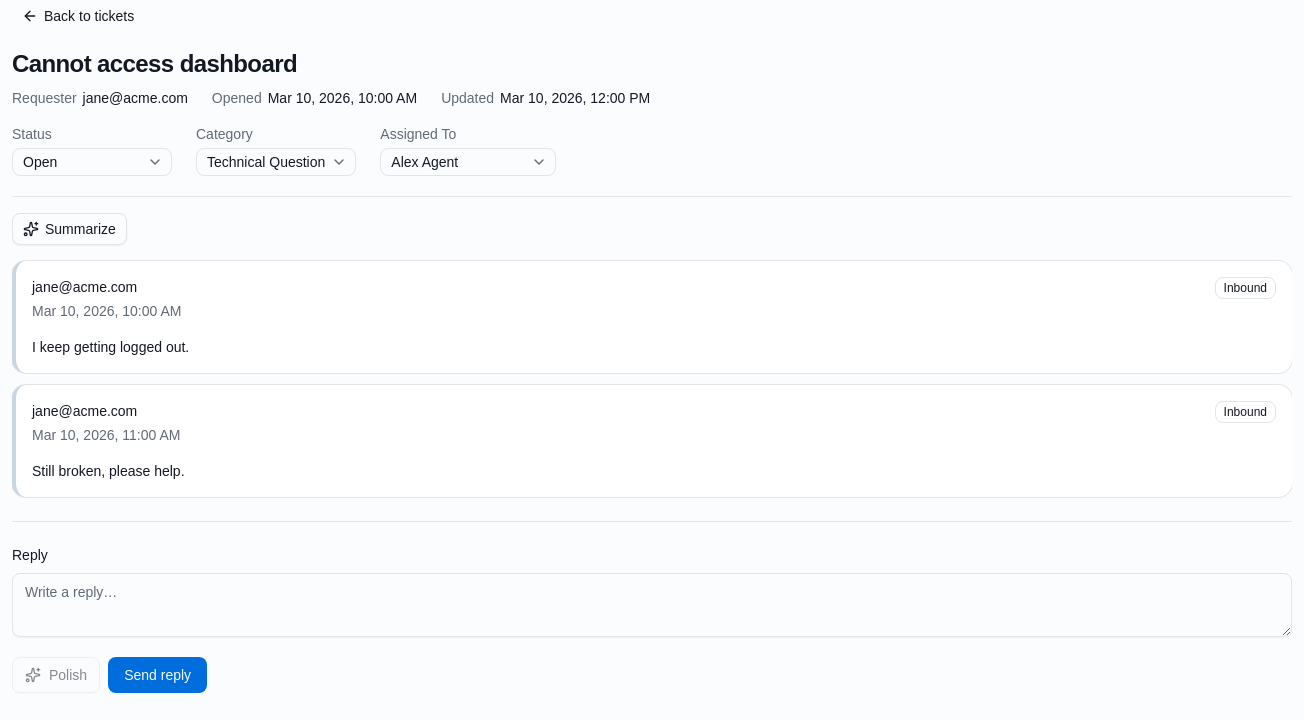
Test case: TicketDetailPage › lets an admin assign an agent and reflects it once saved
The image size is (1304, 720).
Expected: the heading "Cannot access dashboard" is shown, [12,50,297,77]
Click the dropdown named "assign to": (468, 162) [380,148,556,176]
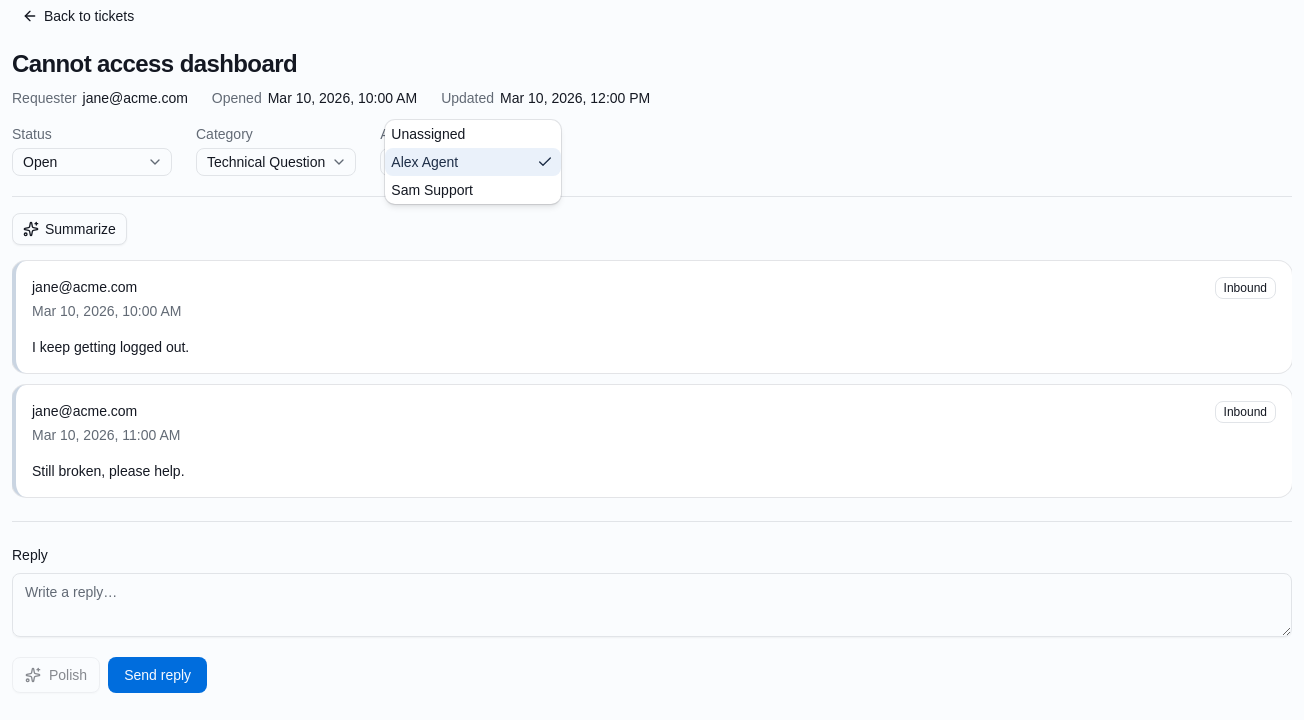
Click the option "Sam Support": (432, 190) [391,182,473,198]
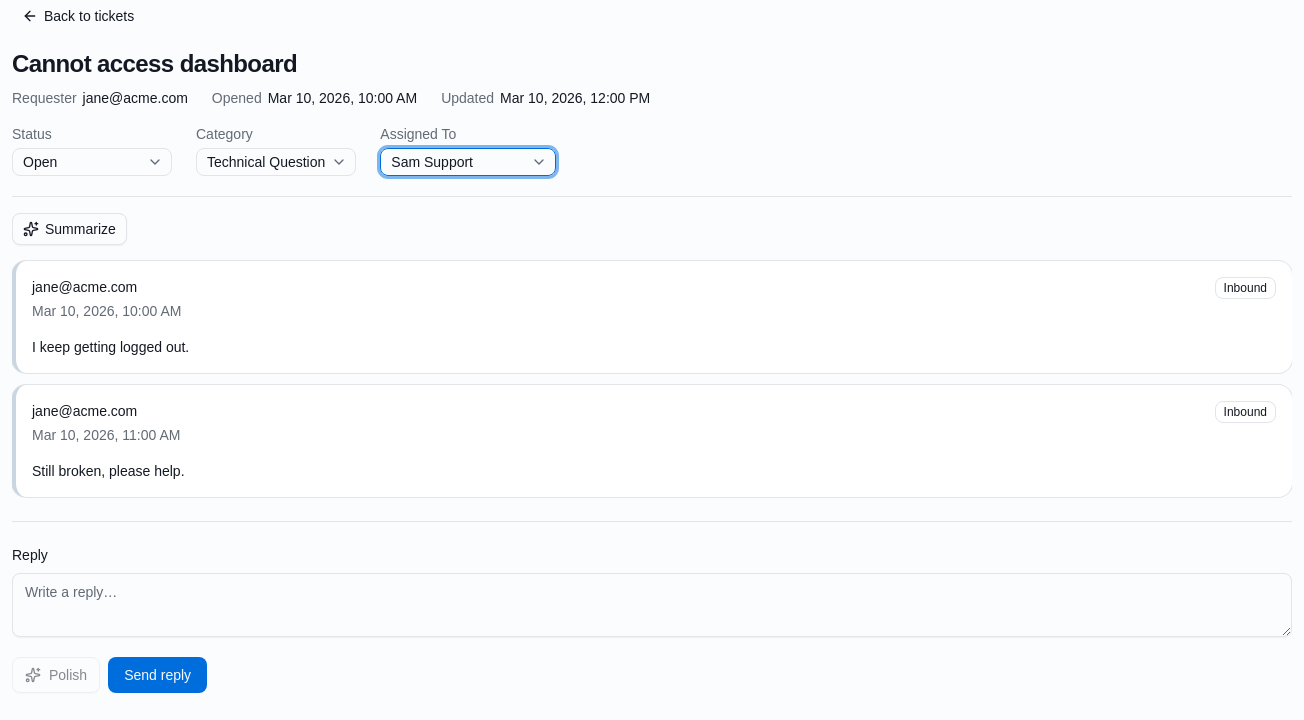
Expected: the dropdown named "assign to" shows "Sam Support", [380,148,556,176]
